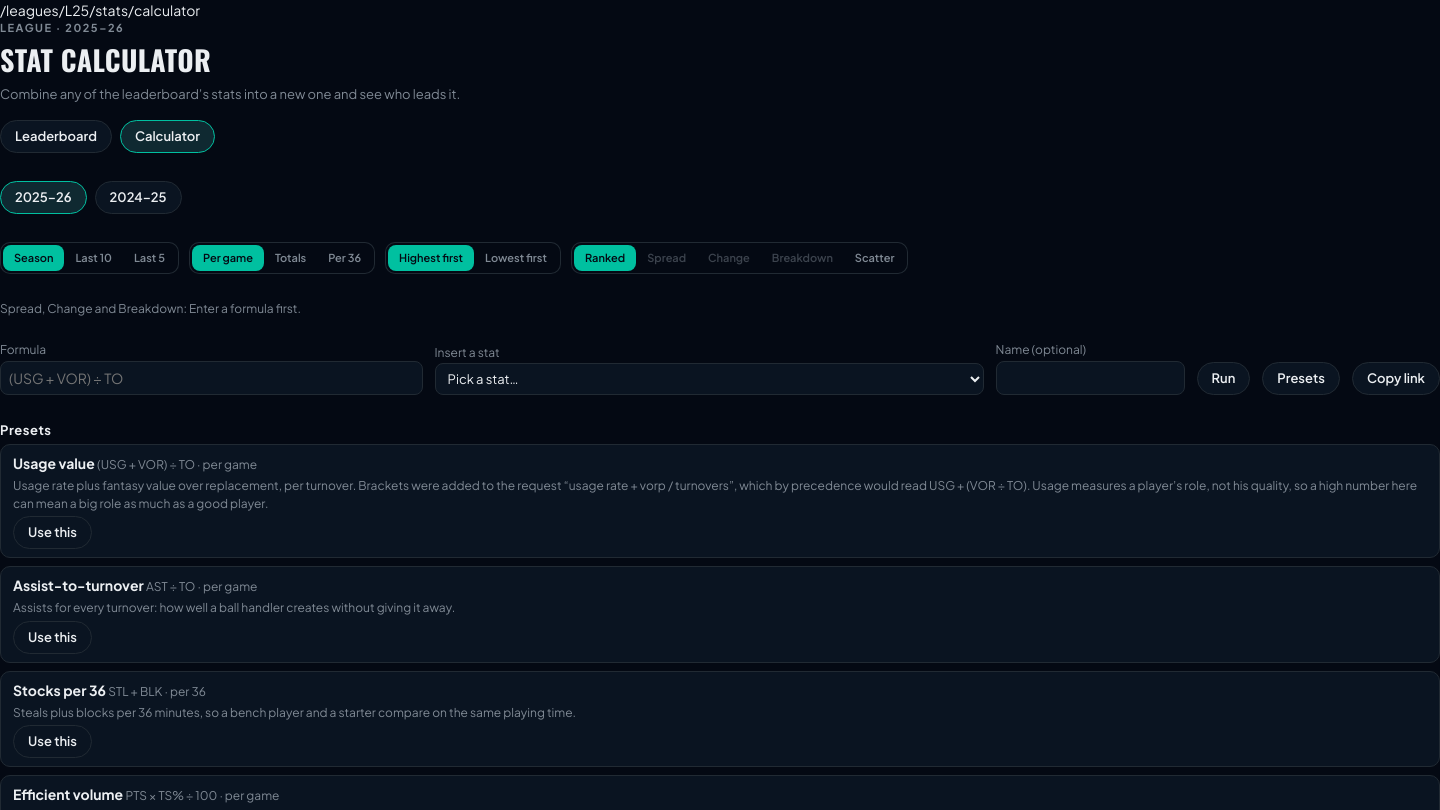
Test: StatCalculator › runs (USG + VOR) / TO: the chart and the table agree, with the unit warning and exact values
The image size is (1440, 810).
Type "(USG + VOR) / TO" into the field labelled "Formula". click: (211, 378)
box: x1=0 y1=361 x2=422 y2=395
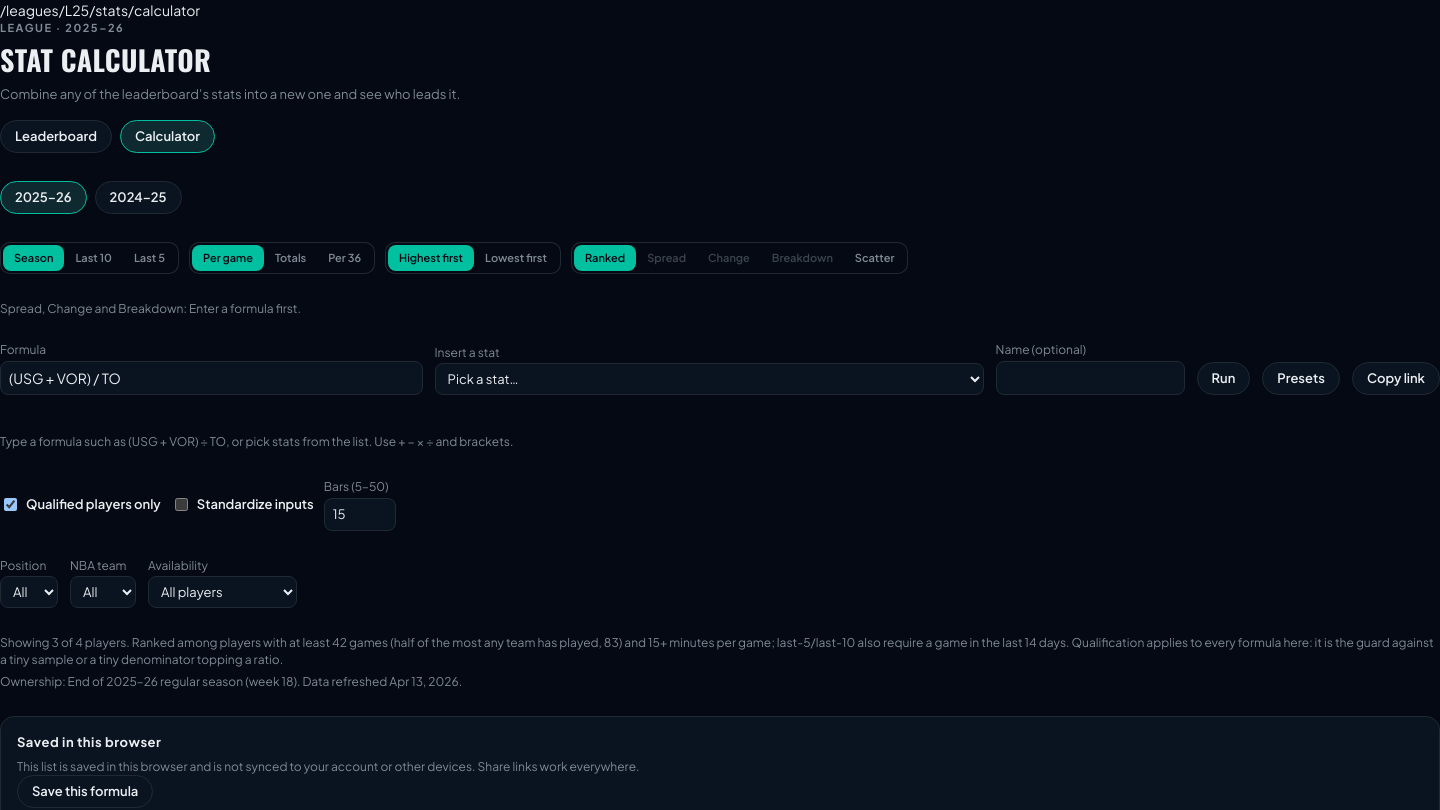
Click the button "Run". click: (1223, 379)
box: x1=1196 y1=362 x2=1250 y2=395
(page scrolled)
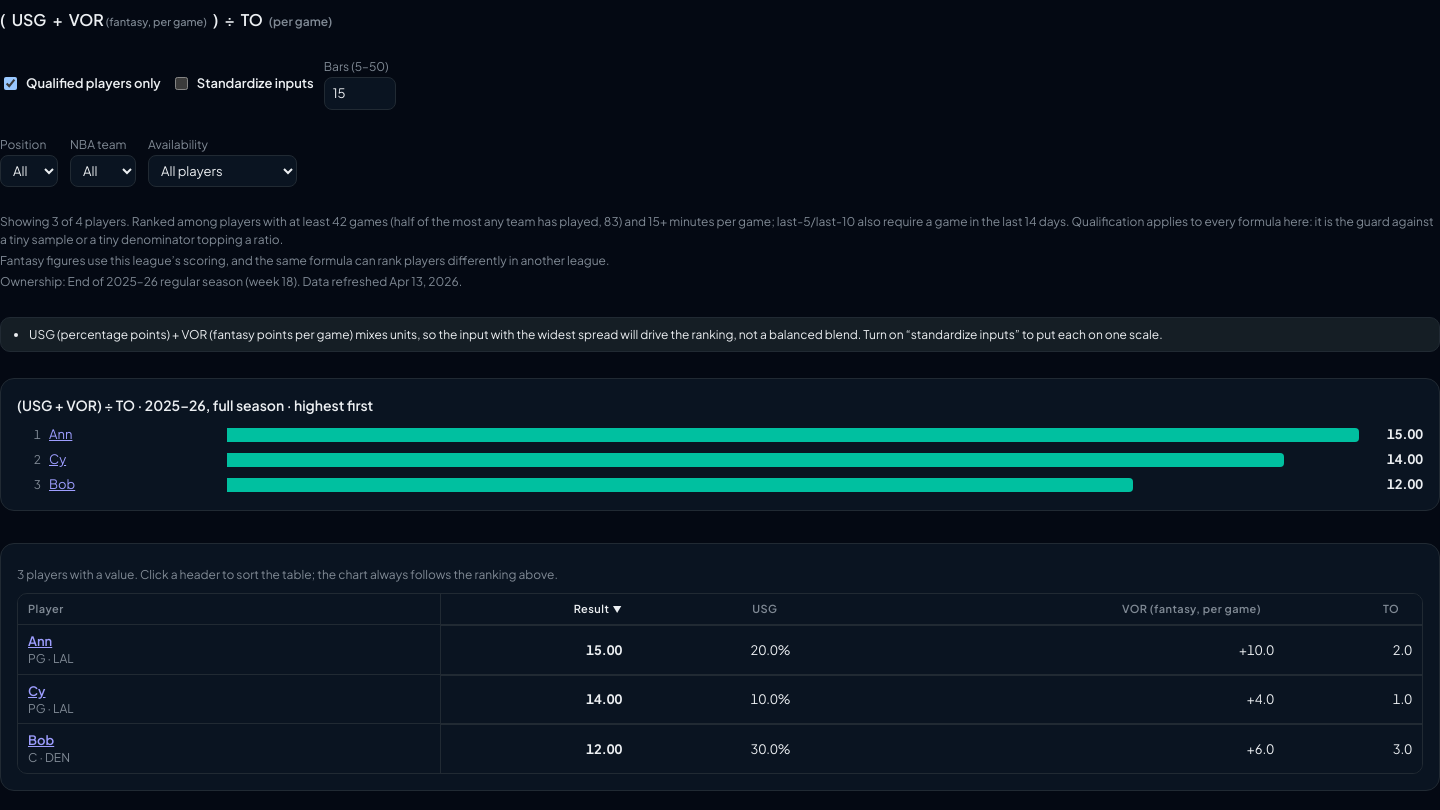
Expected: the element named "Ranked chart" is shown, x1=0 y1=378 x2=1439 y2=511
Expected: the element named "Formula as read" reads "( USG + VOR (fantasy, per game) ) ÷ TO (per game)", x1=0 y1=9 x2=332 y2=30
Expected: the list named "Formula warnings" shows "USG (percentage points)", x1=29 y1=327 x2=1163 y2=342
